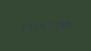eight: (59, 19, 65, 29)
five: (31, 21, 37, 31)
four: (17, 21, 23, 32), (24, 21, 30, 32)
nine: (38, 20, 44, 31), (66, 18, 72, 29)
seven: (52, 19, 58, 30), (45, 20, 51, 30)
